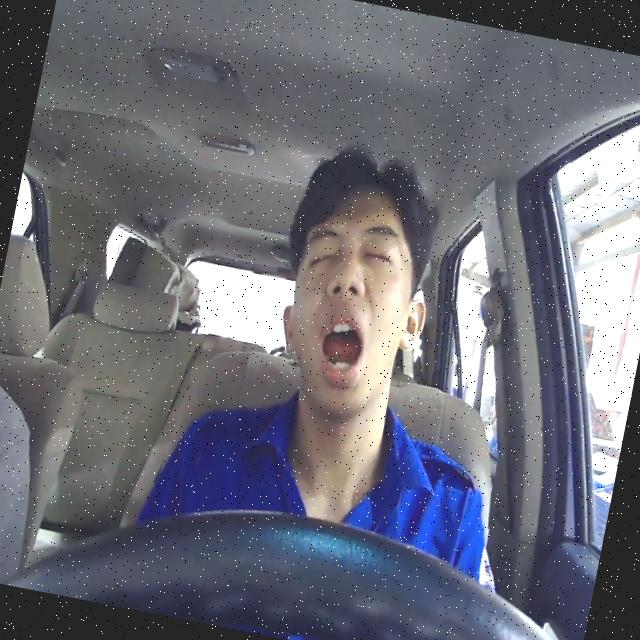yarning: (263, 172, 448, 432)
